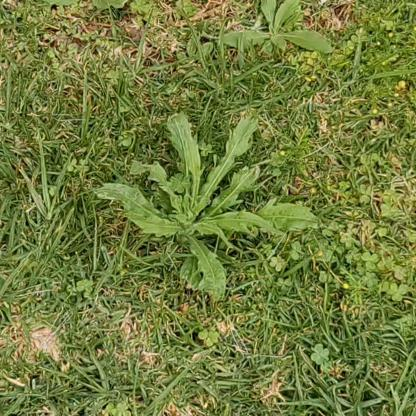Weeds: (94, 111, 326, 302), (225, 0, 332, 56)
